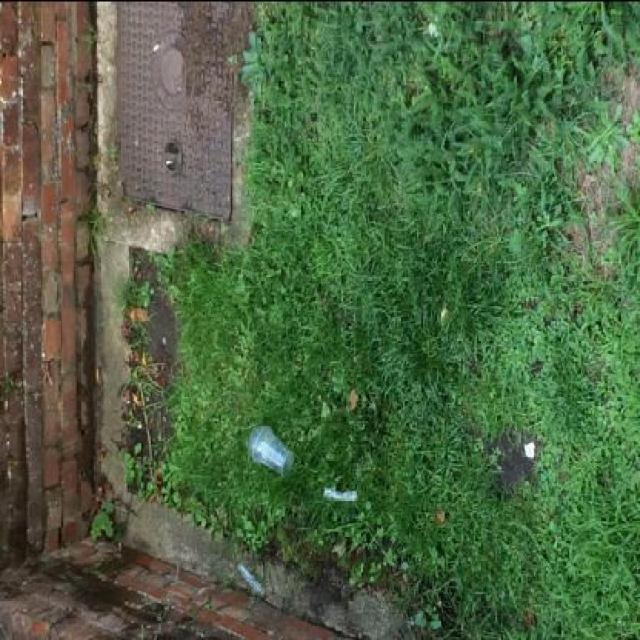plastic: (248, 423, 294, 475)
